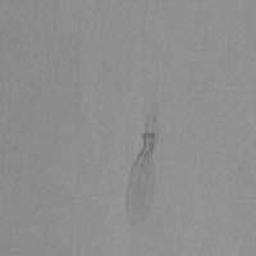Water spot: (124, 102, 160, 230)
